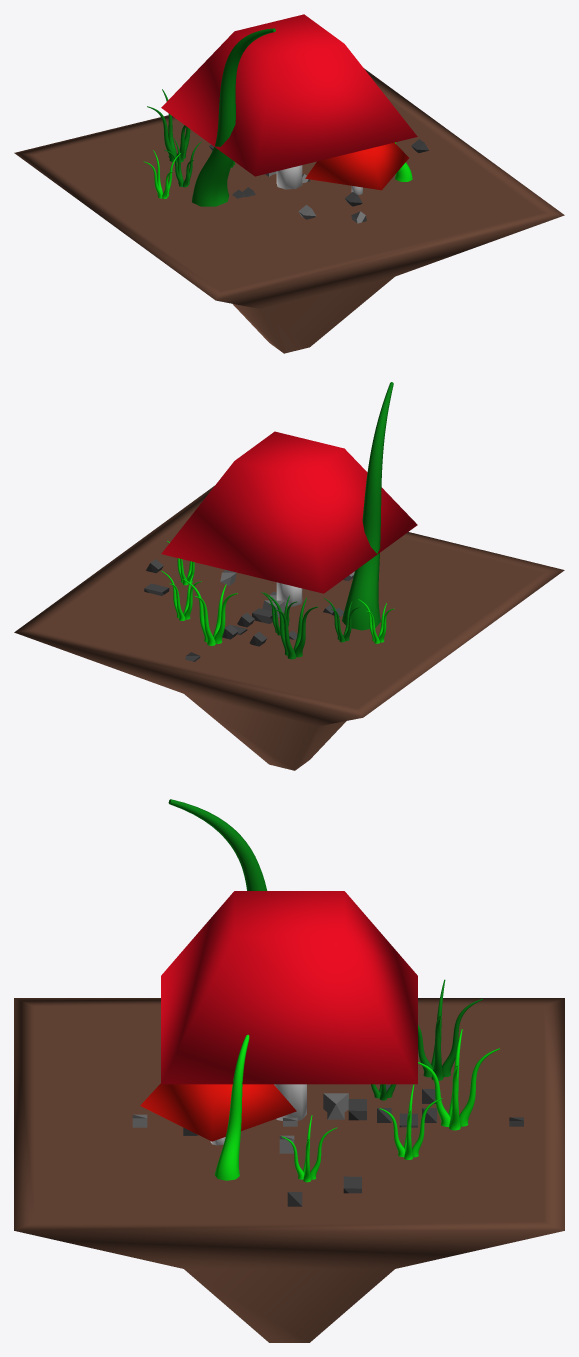
File: mushroom-island.glb
3 views of the same model, one above another, from view 1: azimuth 30°, elevation 25°; view 2: azimuth 150°, elevation 25°; view 3: azimuth 270°, elevation 25° (orthographic). The views are drawn at different scales.
Visible parts, largest first — view 1: Cube.002, Cube, NurbsPath, Cube.001, NurbsPath.004, Cylinder, NurbsPath.006, NurbsPath.007; view 2: Cube.002, Cube, NurbsPath, NurbsPath.002, NurbsPath.004, NurbsPath.003, Cylinder; view 3: Cube.002, Cube, Cube.001, NurbsPath.001, NurbsPath, NurbsPath.002, NurbsPath.004, NurbsPath.003, Cylinder, NurbsPath.005.
Part boxes in pixels (left/top/right/bottom): Cube.002: left=14, top=68, right=564, bottom=353; Cube: left=161, top=14, right=417, bottom=176; NurbsPath: left=192, top=28, right=275, bottom=206; Cube.001: left=305, top=142, right=408, bottom=190; NurbsPath.004: left=147, top=89, right=190, bottom=162; Cylinder: left=276, top=165, right=302, bottom=189; NurbsPath.006: left=143, top=150, right=180, bottom=198; NurbsPath.007: left=164, top=138, right=201, bottom=187; Cube.002: left=14, top=485, right=564, bottom=770; Cube: left=161, top=431, right=417, bottom=593; NurbsPath: left=342, top=382, right=393, bottom=630; NurbsPath.002: left=183, top=579, right=237, bottom=645; NurbsPath.004: left=264, top=592, right=317, bottom=659; NurbsPath.003: left=161, top=570, right=201, bottom=620; Cylinder: left=276, top=582, right=302, bottom=606; Cube.002: left=14, top=998, right=564, bottom=1342; Cube: left=161, top=891, right=417, bottom=1084; Cube.001: left=140, top=1083, right=296, bottom=1141; NurbsPath.001: left=214, top=1034, right=249, bottom=1180; NurbsPath: left=168, top=799, right=267, bottom=890; NurbsPath.002: left=418, top=1029, right=499, bottom=1130; NurbsPath.004: left=418, top=979, right=482, bottom=1080; NurbsPath.003: left=379, top=1084, right=442, bottom=1159; Cylinder: left=274, top=1084, right=306, bottom=1120; NurbsPath.005: left=281, top=1115, right=336, bottom=1182.
Bounding box in the file's own units: 29.93 × 29.7 × 29.93.
